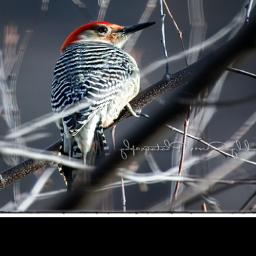Woodpecker: (44, 13, 163, 165)
